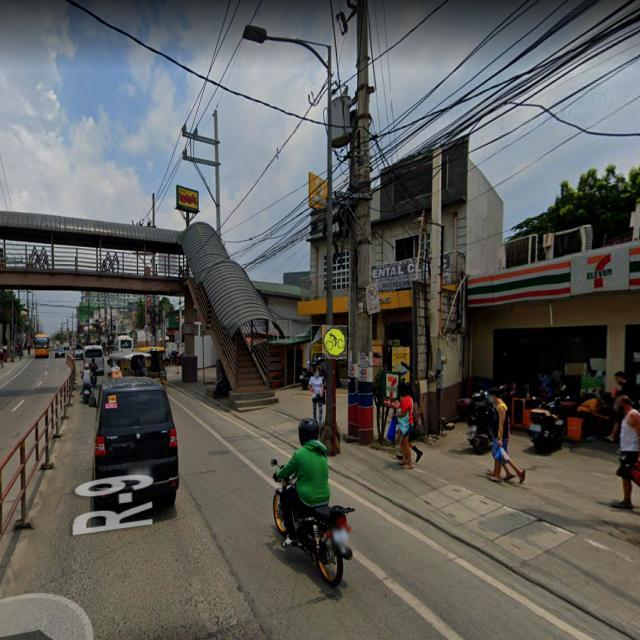bike lane: (322, 325, 347, 359)
